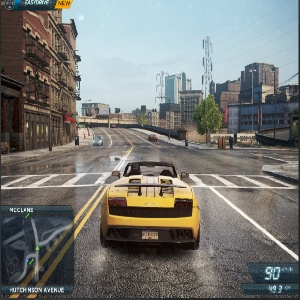building: (1, 9, 76, 141), (212, 59, 300, 127), (160, 74, 198, 127)
mailbox: (219, 135, 235, 149), (73, 134, 81, 149)
tree: (196, 93, 221, 149), (136, 112, 148, 129)
vehicle: (91, 134, 106, 148), (145, 132, 158, 142)
